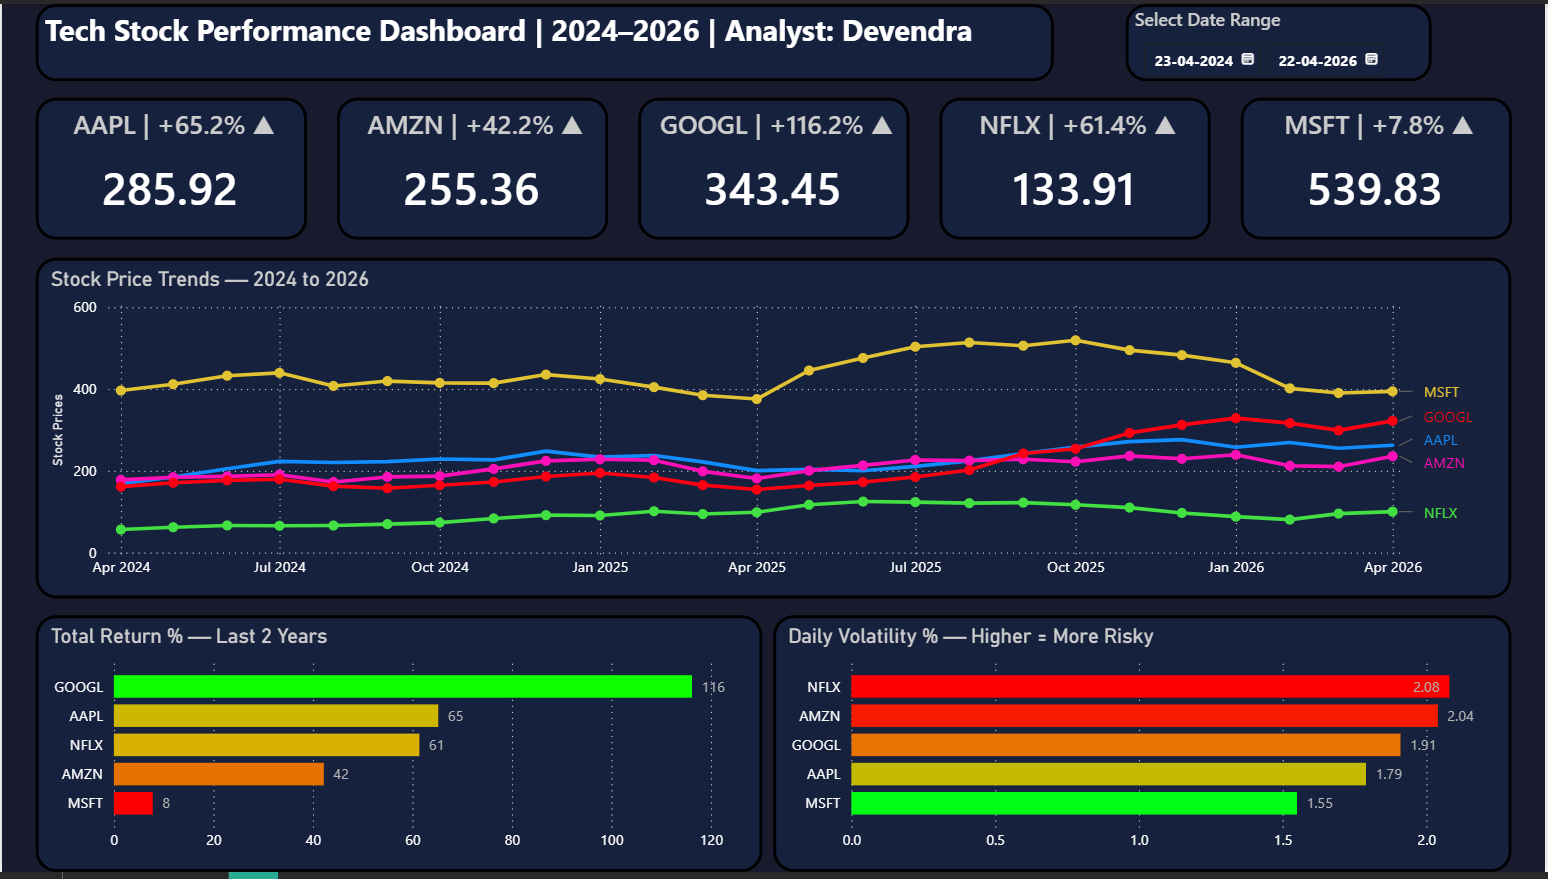

The page's visual inventory and layout, read from the dashboard file:
{"tool":"powerbi","page":{"name":"Stock Dashboard","canvas":[1280,720],"ordinal":0},"visuals":[{"type":"cardVisual","title":"AAPL  |  +65.2% ▲","fields":{"Data":["stock_data_for_powerbi.AAPL_Latest"]},"box":[27.9,77.9,224.4,117.4],"z":0,"group":"g1"},{"type":"lineChart","title":"Stock Price Trends — 2024 to 2026","fields":{"Y":["Avg(stock_data_for_powerbi.AAPL)","Avg(stock_data_for_powerbi.AMZN)","Avg(stock_data_for_powerbi.GOOGL)","Avg(stock_data_for_powerbi.MSFT)","Avg(stock_data_for_powerbi.NFLX)"],"Category":["stock_data_for_powerbi.Date.Variation.Date Hierarchy.Year","stock_data_for_powerbi.Date.Variation.Date Hierarchy.Quarter","stock_data_for_powerbi.Date.Variation.Date Hierarchy.Month"]},"box":[27.9,210.5,1223.3,282.6],"z":0},{"type":"cardVisual","title":"AMZN  |  +42.2% ▲","fields":{"Data":["stock_data_for_powerbi.AMZN_Latest"]},"box":[277.6,77.9,224.4,117.4],"z":1000,"group":"g1"},{"type":"clusteredBarChart","title":"Total Return % — Last 2 Years","fields":{"Category":["Returns.Stock"],"Y":["Sum(Returns.Total Return)"]},"box":[27.9,507,602.3,212.8],"z":1000},{"type":"cardVisual","title":"GOOGL |  +116.2% ▲","fields":{"Data":["stock_data_for_powerbi.GOOGL_Latest"]},"box":[527.3,77.9,224.4,117.4],"z":2000,"group":"g1"},{"type":"clusteredBarChart","title":"Daily Volatility % — Higher = More Risky","fields":{"Y":["Sum(Volatility.Volatility)"],"Category":["Volatility.Stock"]},"box":[639.5,507,611.6,212.8],"z":2000},{"type":"slicer","title":"Select Date Range","fields":{"Values":["stock_data_for_powerbi.Date"]},"box":[931.4,0,253.5,64],"z":3000},{"type":"cardVisual","title":"NFLX  |  +61.4% ▲","fields":{"Data":["stock_data_for_powerbi.NFLX_Latest"]},"box":[777,77.9,224.4,117.4],"z":3000,"group":"g1"},{"type":"textbox","title":"Tech Stock Performance Dashboard | 2024–2026 | Analyst: Devendra","box":[27.9,0,844.2,64],"z":4000},{"type":"cardVisual","title":"MSFT  |  +7.8% ▲","fields":{"Data":["stock_data_for_powerbi.MSFT_Latest"]},"box":[1026.7,77.9,224.4,117.4],"z":4000,"group":"g1"},{"type":"group","id":"g1","title":"Group 1","box":[27.9,77.9,1223.3,117.4],"z":5000}]}

Visuals, with their boxes in screenshot pixels (x1, y1, x2, y2), scaled from the page's 1280x720 canvas onto the 1548x879 screenshot:
"AAPL  |  +65.2% ▲" cardVisual: (34, 95, 305, 238)
"Stock Price Trends — 2024 to 2026" lineChart: (34, 257, 1513, 602)
"AMZN  |  +42.2% ▲" cardVisual: (336, 95, 607, 238)
"Total Return % — Last 2 Years" clusteredBarChart: (34, 619, 762, 878)
"GOOGL |  +116.2% ▲" cardVisual: (638, 95, 909, 238)
"Daily Volatility % — Higher = More Risky" clusteredBarChart: (773, 619, 1513, 878)
"Select Date Range" slicer: (1126, 0, 1433, 78)
"NFLX  |  +61.4% ▲" cardVisual: (940, 95, 1211, 238)
"Tech Stock Performance Dashboard | 2024–2026 | Analyst: Devendra" textbox: (34, 0, 1055, 78)
"MSFT  |  +7.8% ▲" cardVisual: (1242, 95, 1513, 238)
"Group 1" group: (34, 95, 1513, 238)
